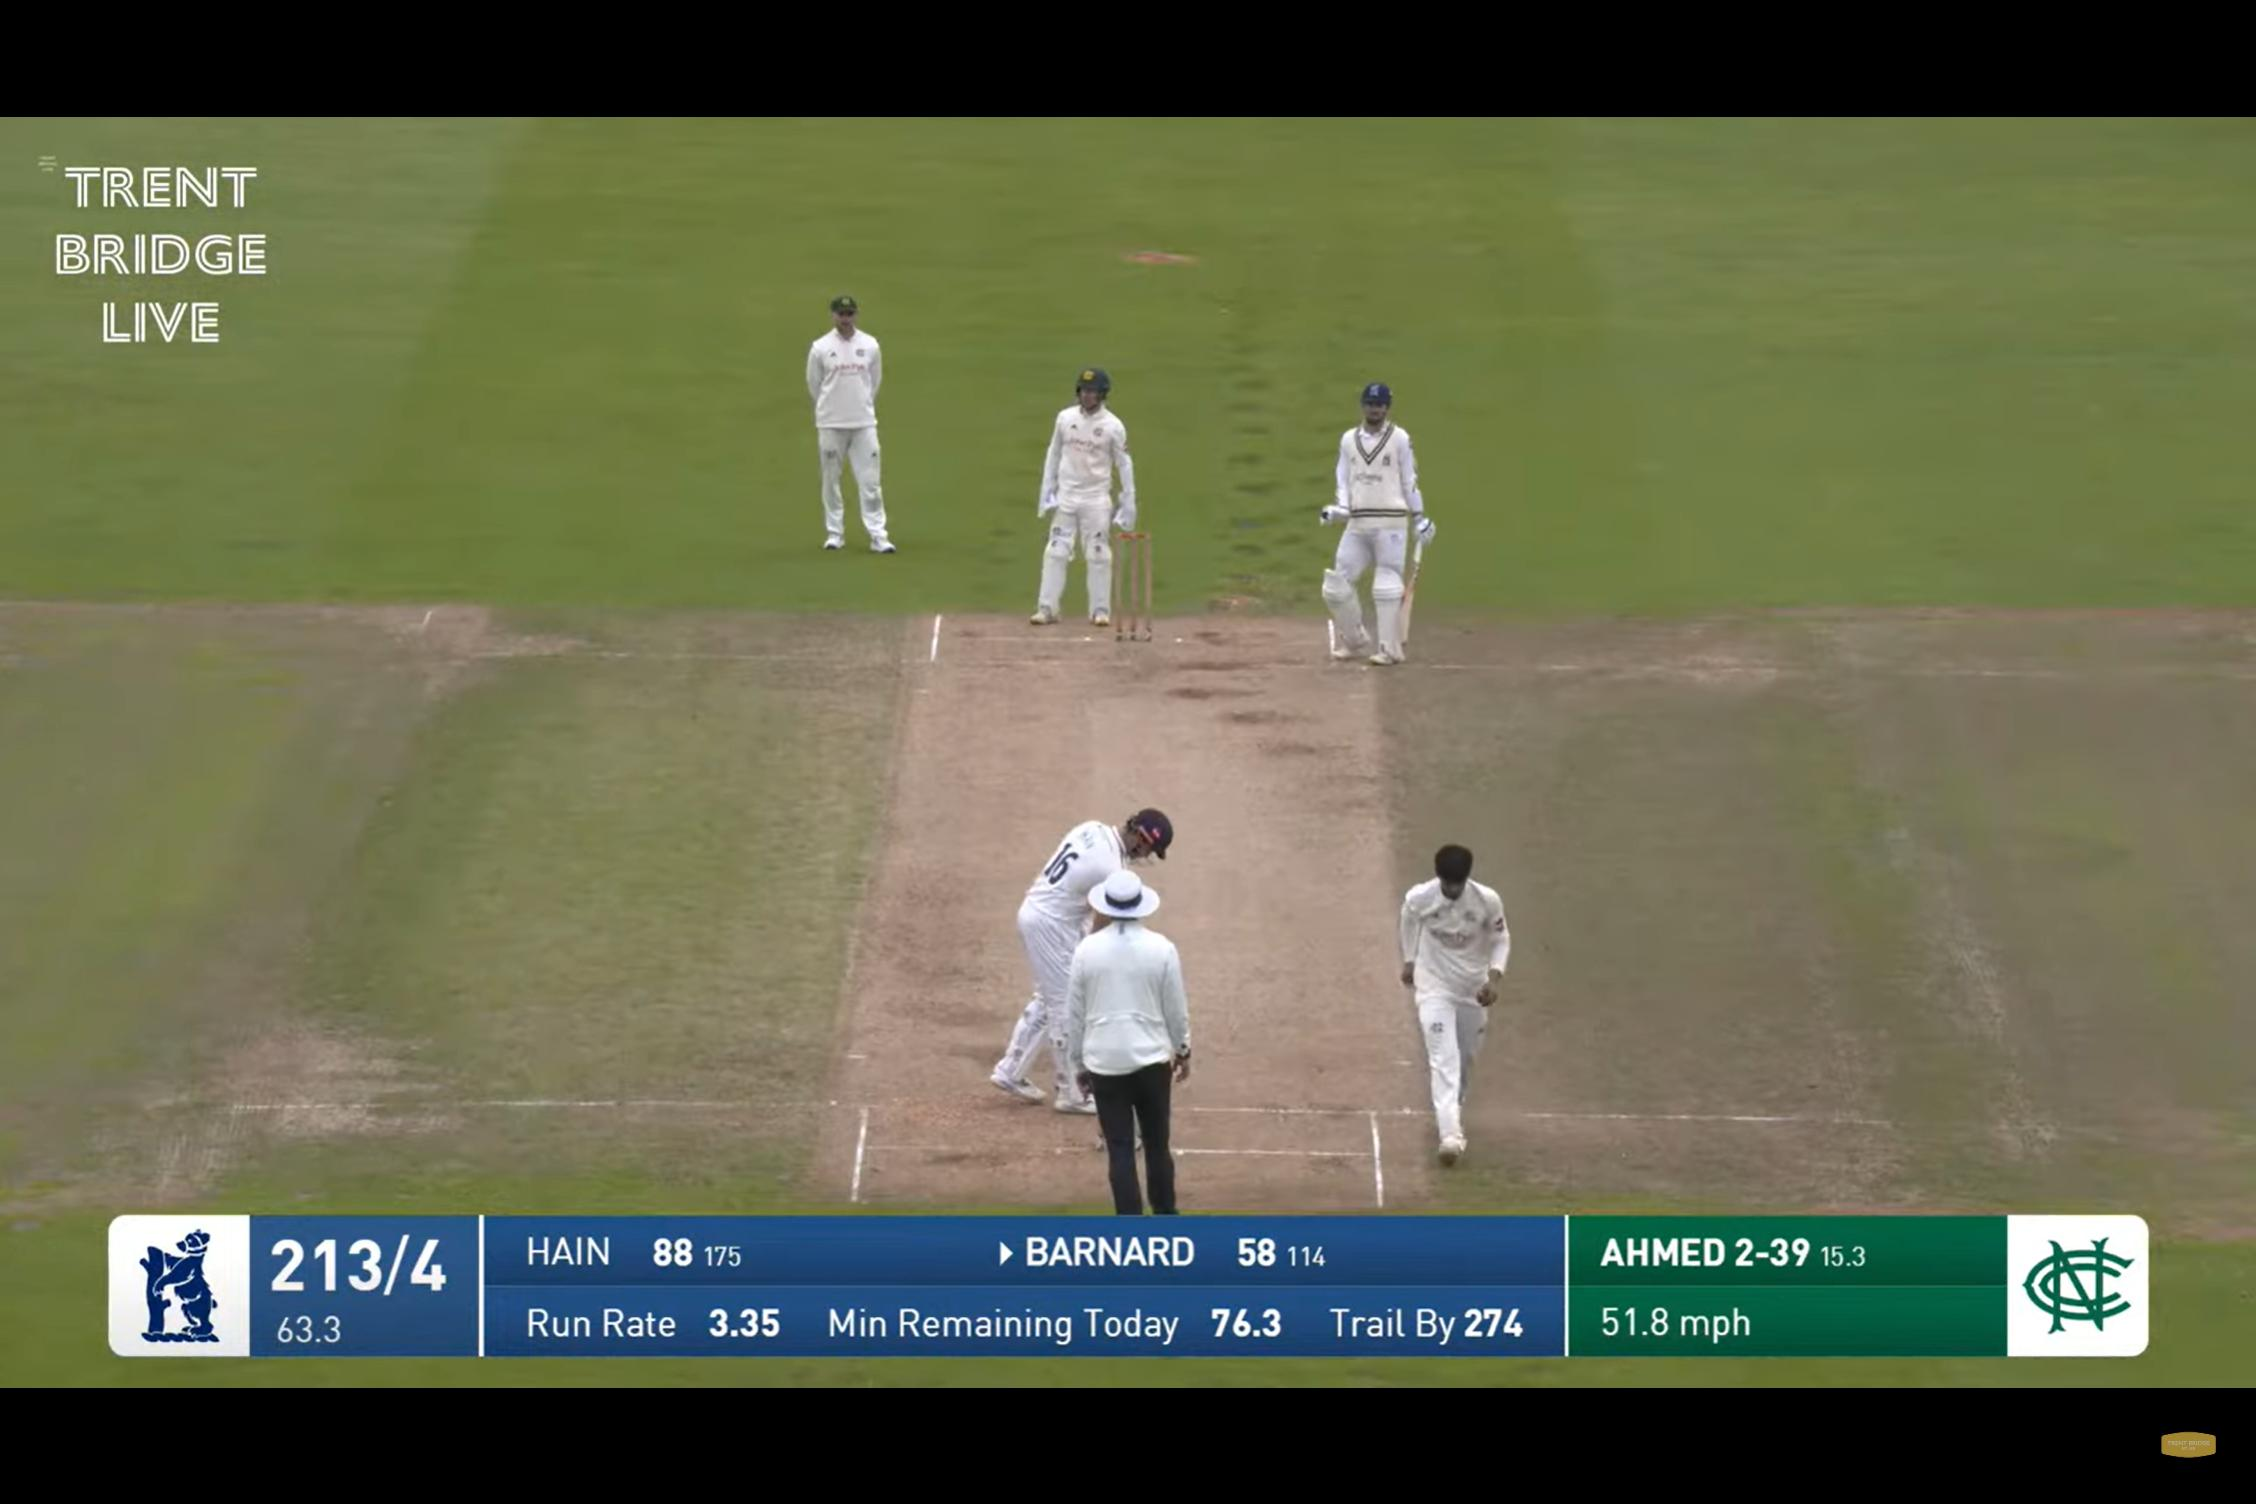batsman: (1289, 361, 1455, 688)
bowler walking back: (1386, 826, 1539, 1183)
umpire: (1056, 868, 1234, 1219)
wicket keeper: (1005, 347, 1145, 641)
